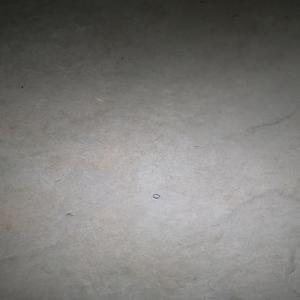Nut: (151, 194, 160, 199)
